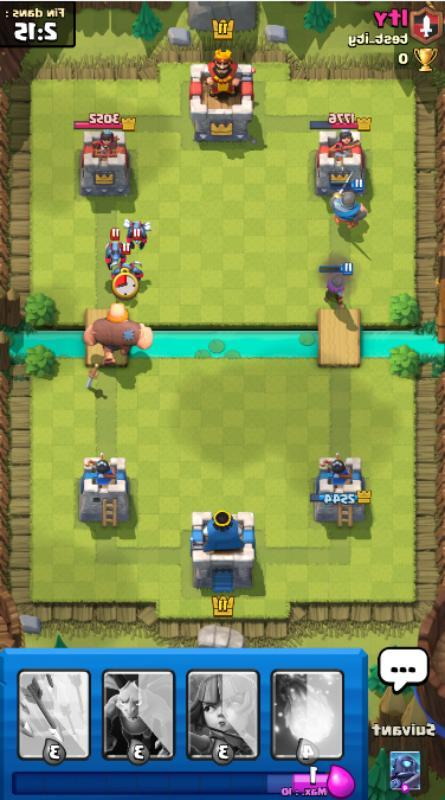chevalier: (329, 168, 370, 229)
gargouille: (111, 243, 143, 284), (103, 228, 128, 269), (123, 219, 151, 250)
geant: (82, 303, 156, 368)
mousquetaire: (319, 260, 355, 310)
